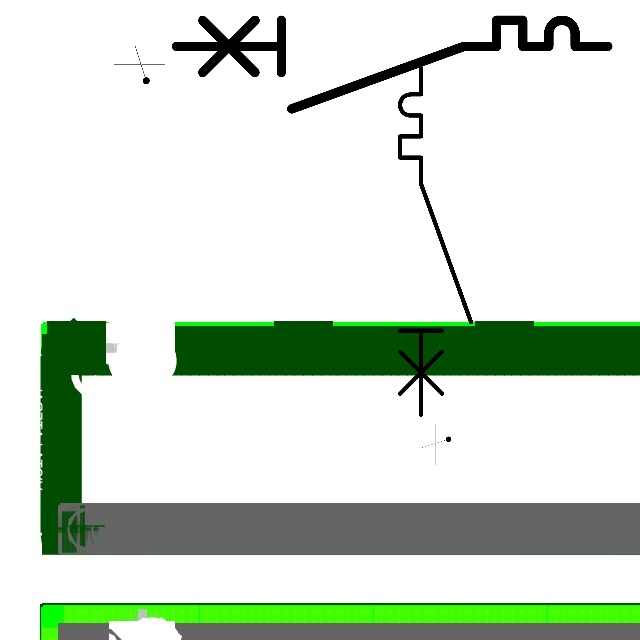interruptor_termomagnetico: (165, 9, 618, 120), (391, 59, 480, 423)
